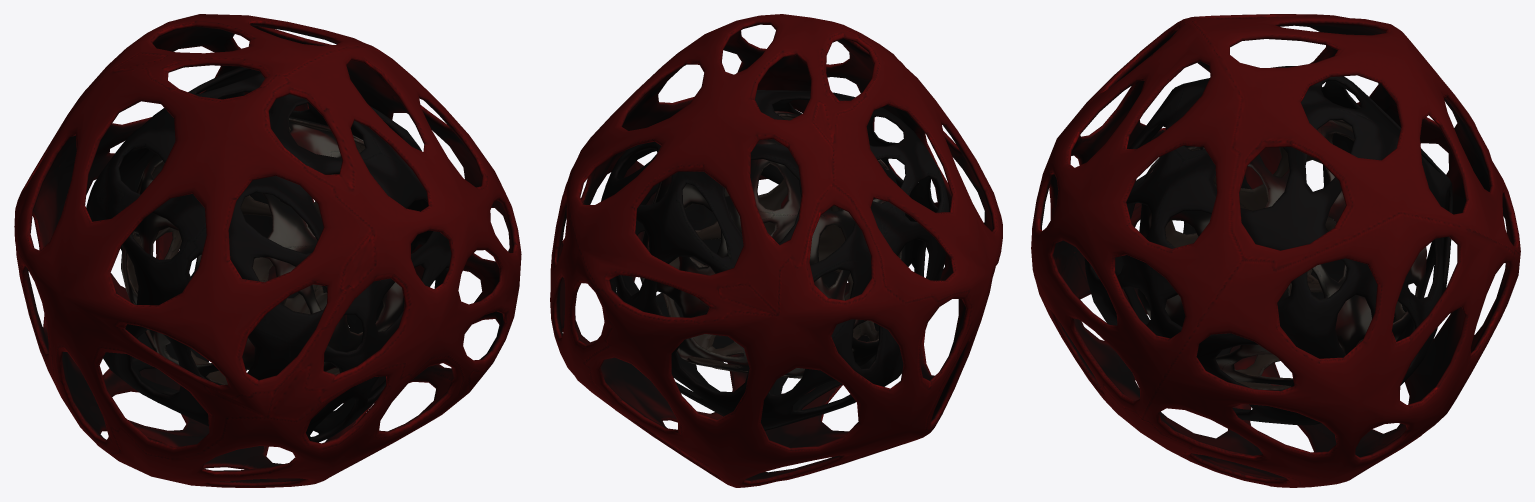
The model's file is Organic.glb.
The picture shows the model from 3 angles, left to right: view 1: azimuth 30°, elevation 25°; view 2: azimuth 150°, elevation 25°; view 3: azimuth 270°, elevation 25°; orthographic projection. The views are drawn at different scales.
Visible parts, largest first — view 1: GD_mesh.008, GD_mesh.007, GD_mesh.001; view 2: GD_mesh.008, GD_mesh.007, GD_mesh.001; view 3: GD_mesh.008, GD_mesh.007, GD_mesh.001.
Boxes of the visible parts, x1,y1,x2,y2 form: GD_mesh.008: (14, 14, 521, 487); GD_mesh.007: (86, 67, 451, 442); GD_mesh.001: (121, 112, 404, 385); GD_mesh.008: (550, 14, 1002, 487); GD_mesh.007: (601, 90, 949, 430); GD_mesh.001: (640, 111, 905, 378); GD_mesh.008: (1031, 14, 1520, 487); GD_mesh.007: (1084, 66, 1452, 425); GD_mesh.001: (1137, 120, 1426, 390).
Bounding box in the file's own units: 3.41 × 3.46 × 3.42.
Materials: 3 (3 with a texture image).
